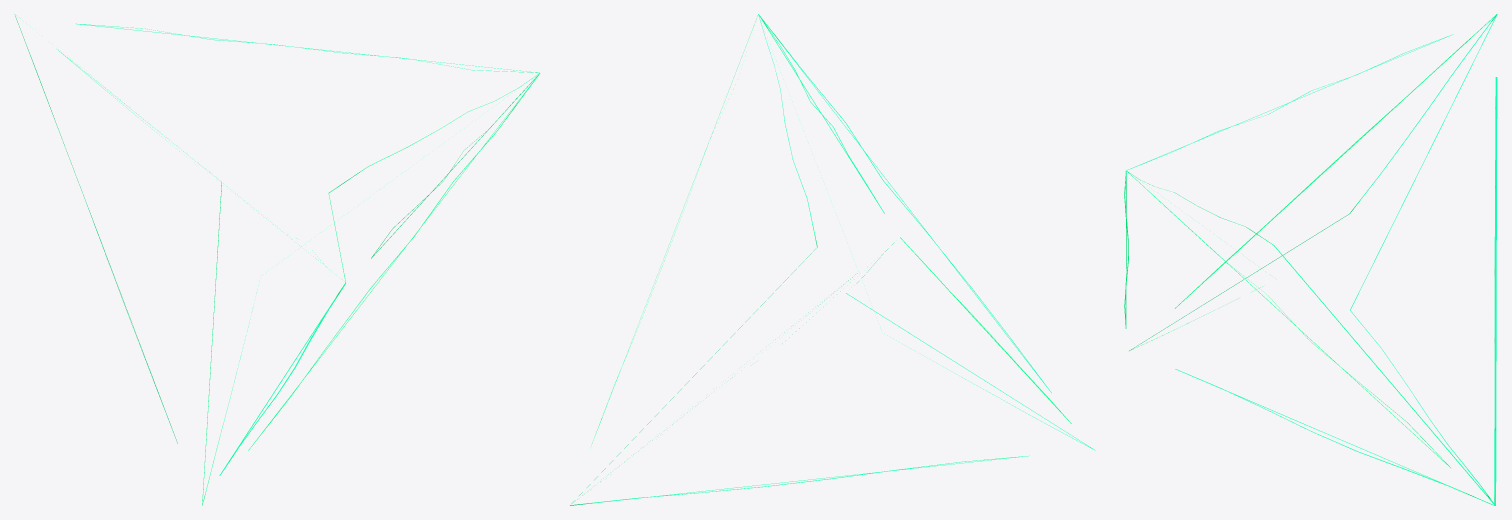
File: hypersimplex_ar_universal.glb
3 views of the same model, side by side, from view 1: azimuth 30°, elevation 25°; view 2: azimuth 150°, elevation 25°; view 3: azimuth 270°, elevation 25° (orthographic). The views are drawn at different scales.
Parts seen in each view (by area): view 1: hypersimplex_ar; view 2: hypersimplex_ar; view 3: hypersimplex_ar.
Boxes of the visible parts, bbox=[...] form: hypersimplex_ar: bbox=[14, 14, 540, 505]; hypersimplex_ar: bbox=[570, 14, 1095, 505]; hypersimplex_ar: bbox=[1124, 14, 1497, 505].
Bounding box in the file's own units: 1 × 0.999 × 0.9939.
